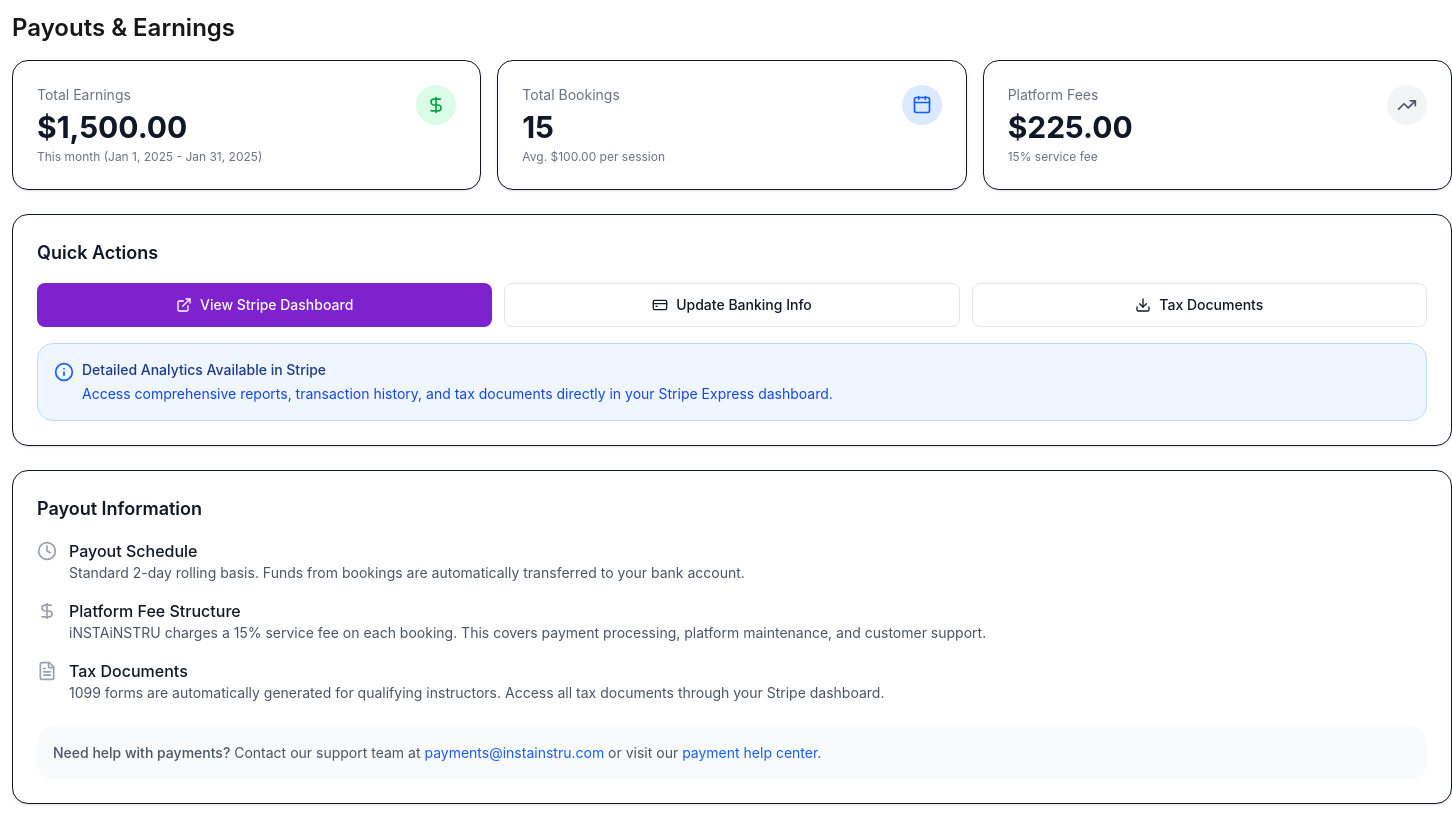
Scenario: PayoutsDashboard › dashboard button states › shows "Opening..." text while dashboard link is loading
Step 1. Click the button "View Stripe Dashboard" → (265, 305), box [37,283,492,327]
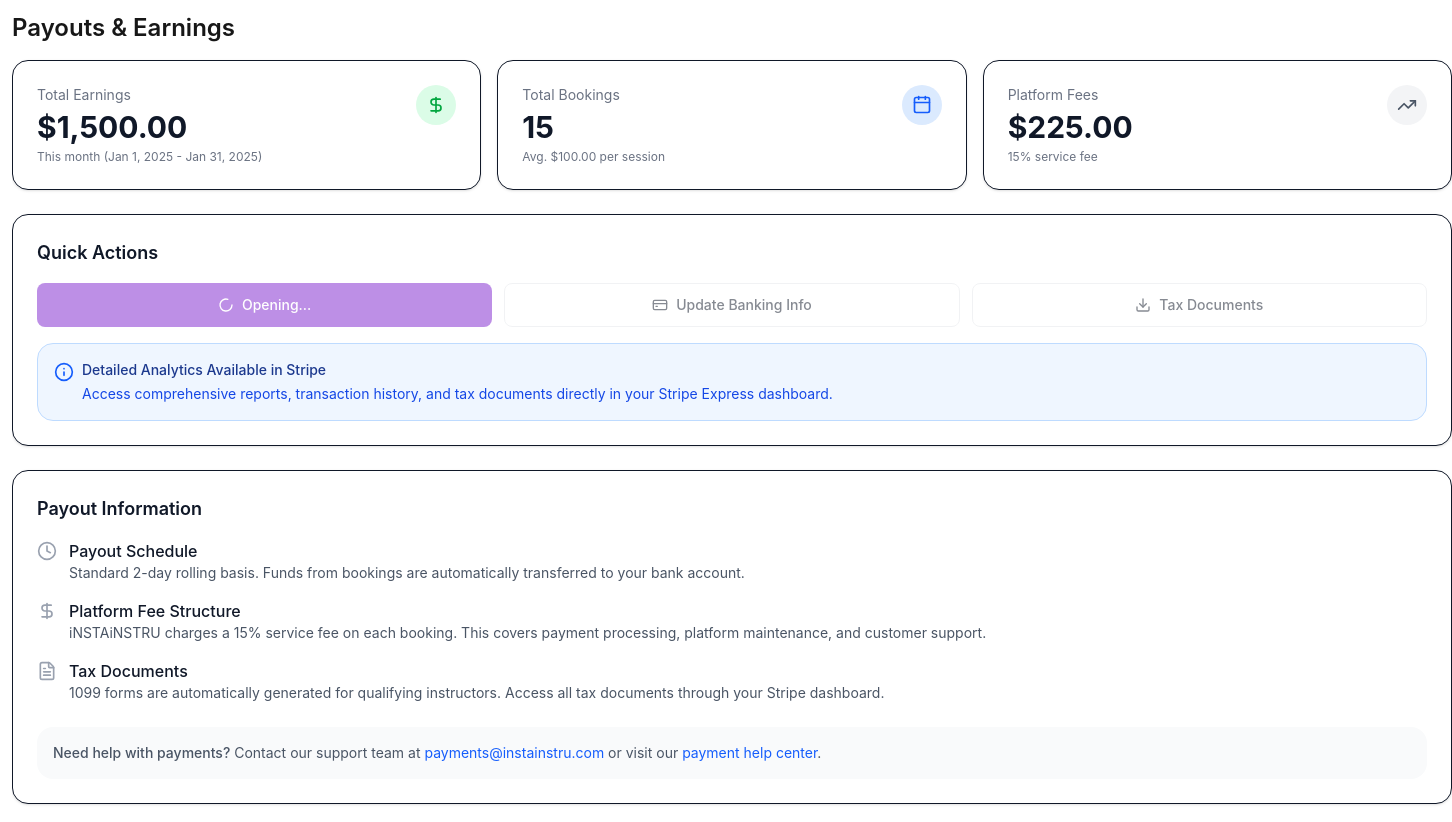
Expected: the button "Opening..." is shown, [37,283,492,327]
